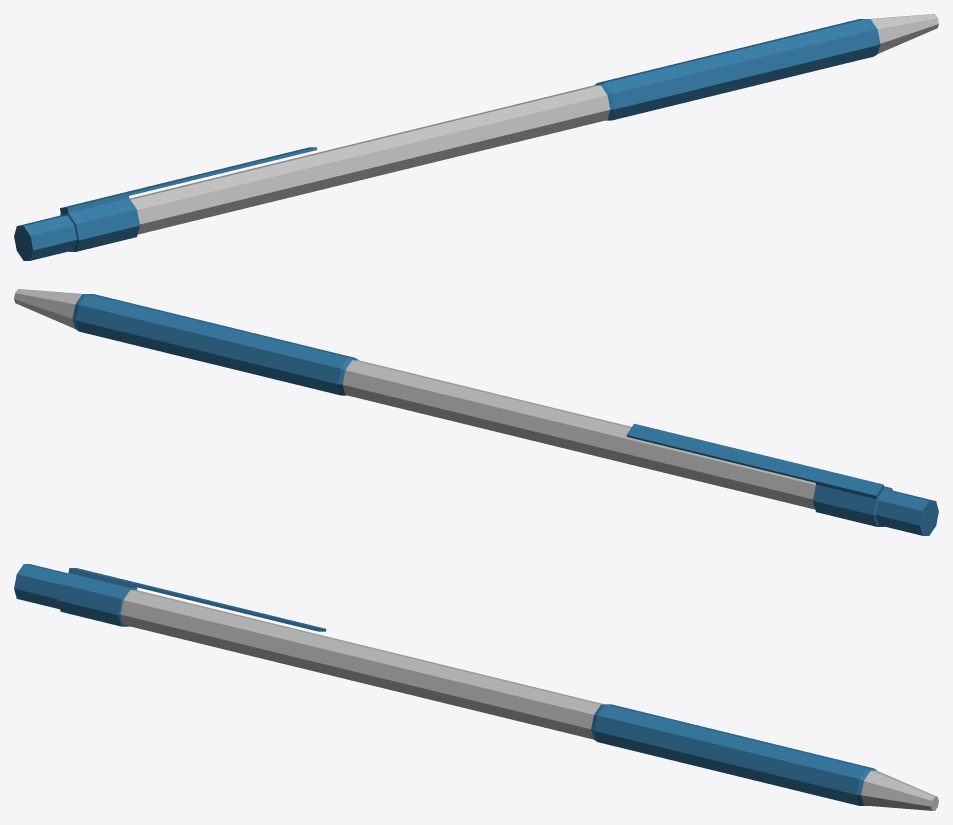
Rendered from Kuglepen_Blå.fbx.
3 renders of one model, top to bottom at view 1: azimuth 30°, elevation 25°; view 2: azimuth 150°, elevation 25°; view 3: azimuth 330°, elevation 25°, orthographic.
Visible parts, largest first — view 1: Cylinder.008; view 2: Cylinder.008; view 3: Cylinder.008.
Boxes of the visible parts, x1,y1,x2,y2 form: Cylinder.008: (14,14,938,260); Cylinder.008: (14,289,938,535); Cylinder.008: (14,564,938,810).
Bounding box in the file's own units: 32.35 × 1.47 × 1.32.
